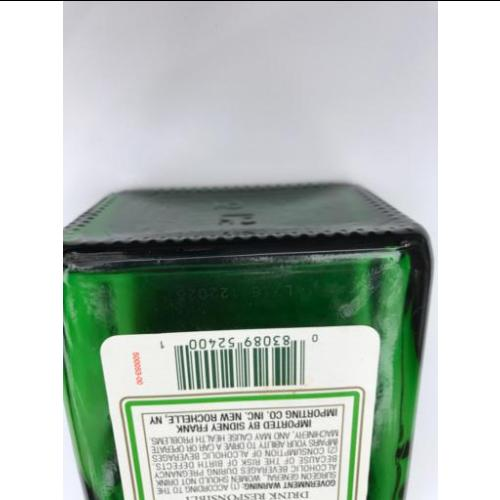glass: (63, 187, 426, 498)
